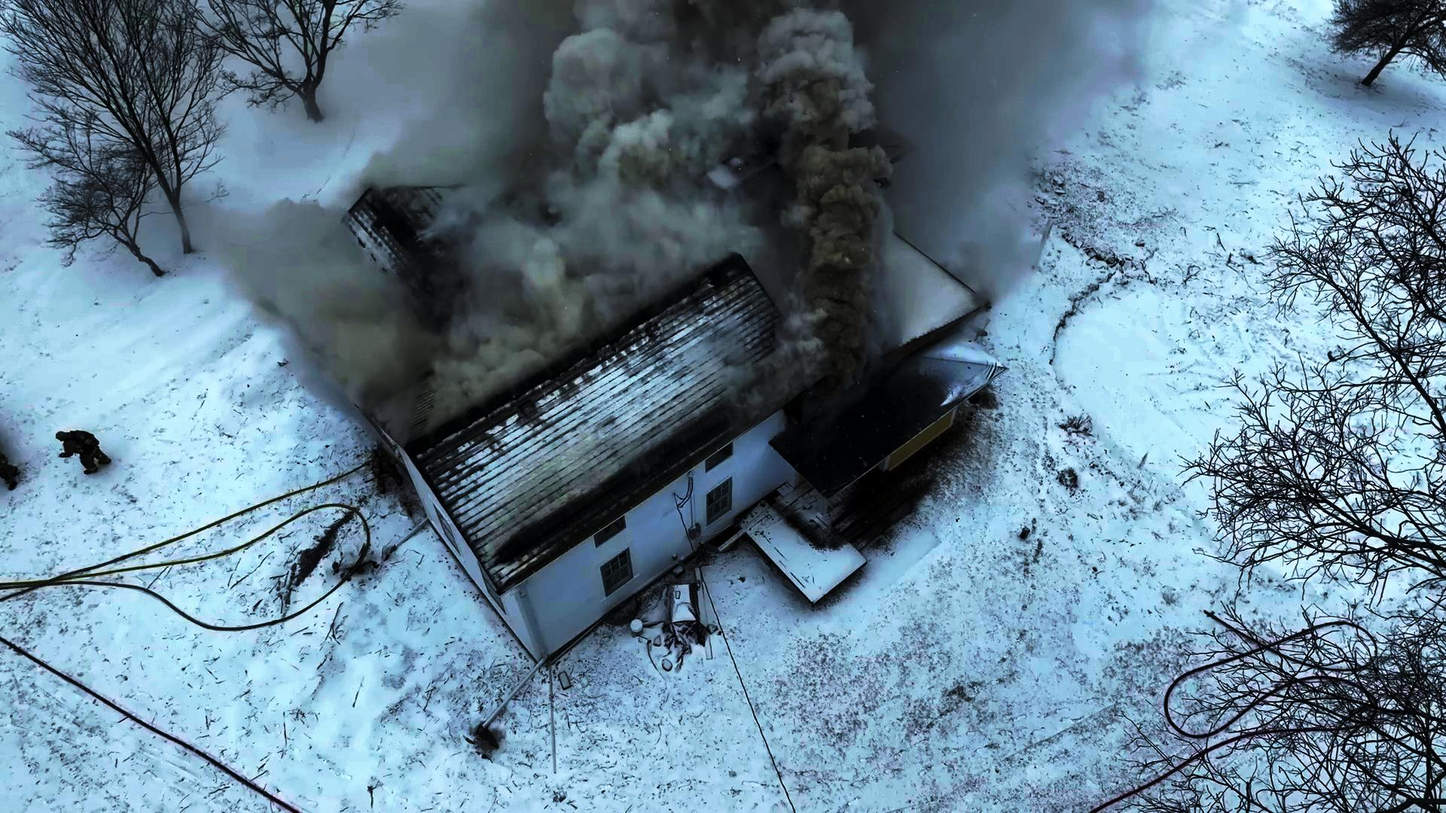smoke: (757, 46, 862, 396)
